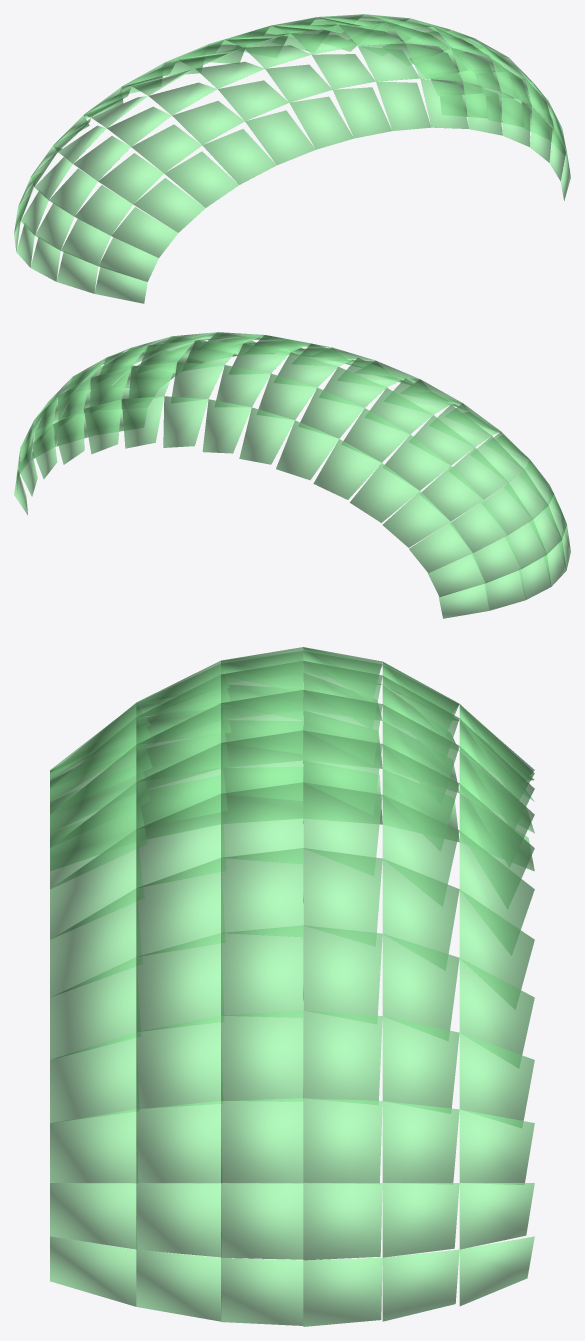
Rendered from screen004.glb.
The picture shows the model from 3 angles, top to bottom: view 1: azimuth 30°, elevation 25°; view 2: azimuth 150°, elevation 25°; view 3: azimuth 270°, elevation 25°; orthographic projection. The views are drawn at different scales.
Parts seen in each view (by area): view 1: [0]; view 2: [0]; view 3: [0].
Part boxes in pixels (x1,y1,x2,y2): [0]: (14, 14, 570, 303); [0]: (14, 332, 570, 618); [0]: (50, 647, 534, 1326).
Size of the model in its own units: 4.78 by 1.52 by 1.93.
